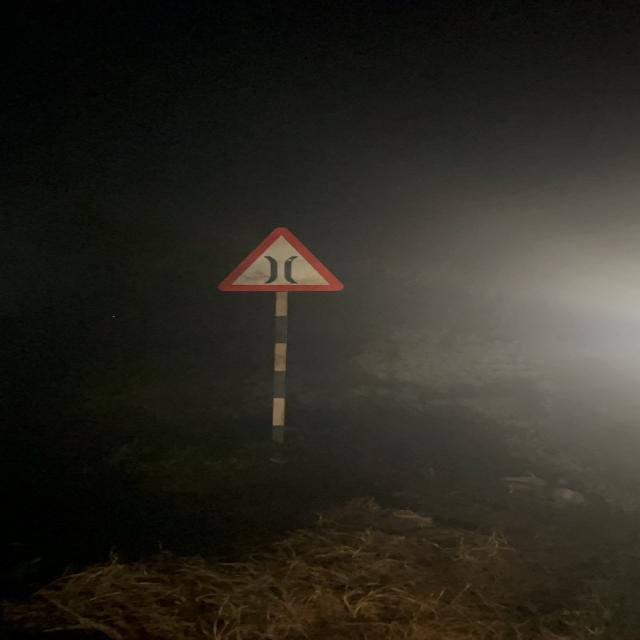Narrow_Bridge: (216, 227, 342, 292)
